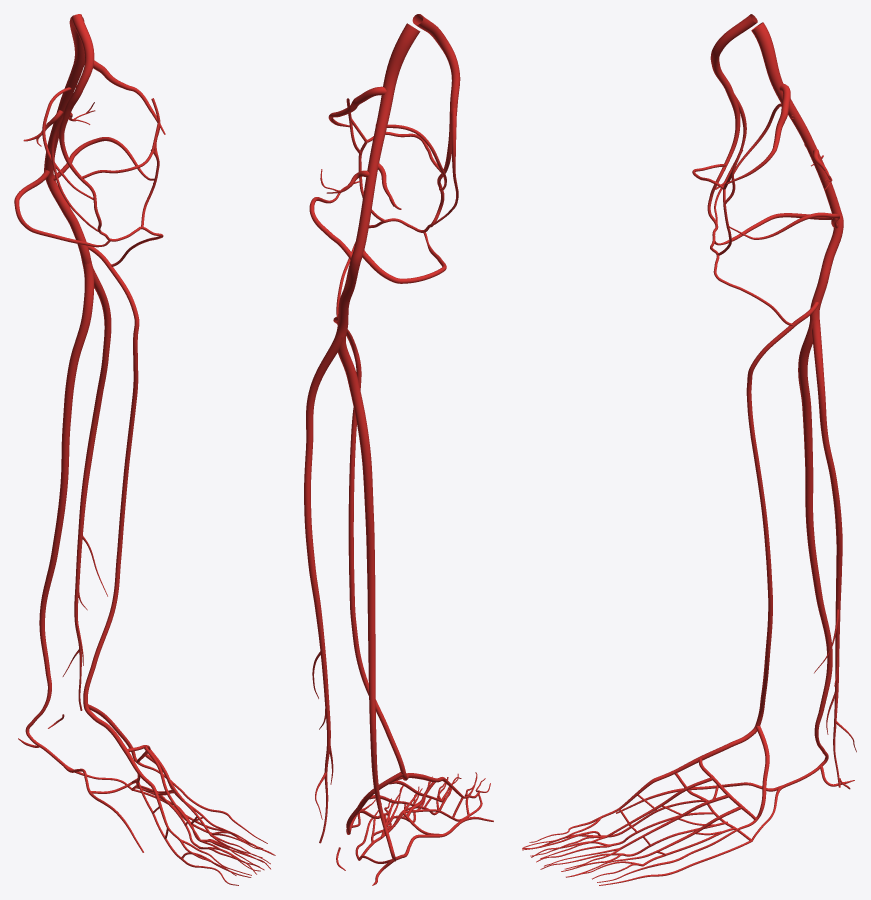
Rendered from circulatorio-popliteal-artery-l.glb.
3 views of the same model, side by side, from view 1: azimuth 30°, elevation 25°; view 2: azimuth 150°, elevation 25°; view 3: azimuth 270°, elevation 25° (orthographic). The views are drawn at different scales.
Visible parts, largest first — view 1: Posterior tibial artery.l, Fibular artery.l, Anterior tibial artery.l, Superior medial genicular artery.l, Popliteal artery.l, Patellar anastomosis.l, Dorsal digital arteries of foot.l, Proper plantar digital arteries.l, Dorsal metatarsal arteries.l, Inferior medial genicular artery.l, Inferior lateral genicular artery.l; view 2: Posterior tibial artery.l, Popliteal artery.l, Fibular artery.l, Anterior tibial artery.l, Superior medial genicular artery.l, Patellar anastomosis.l, Inferior medial genicular artery.l, Proper plantar digital arteries.l, Superior lateral genicular artery.l, Inferior lateral genicular artery.l, Dorsal metatarsal arteries.l, Middle genicular artery.l (+2 smaller); view 3: Posterior tibial artery.l, Popliteal artery.l, Fibular artery.l, Anterior tibial artery.l, Superior medial genicular artery.l, Proper plantar digital arteries.l, Dorsal digital arteries of foot.l, Patellar anastomosis.l, Dorsal metatarsal arteries.l, Plantar metatarsal arteries.l, Superior lateral genicular artery.l.
Part boxes in pixels (bbox=[...]): Posterior tibial artery.l: bbox=[25, 261, 94, 764]; Fibular artery.l: bbox=[62, 261, 111, 710]; Anterior tibial artery.l: bbox=[83, 246, 139, 706]; Superior medial genicular artery.l: bbox=[42, 14, 98, 231]; Popliteal artery.l: bbox=[44, 15, 91, 264]; Patellar anastomosis.l: bbox=[80, 98, 163, 266]; Dorsal digital arteries of foot.l: bbox=[137, 762, 273, 875]; Proper plantar digital arteries.l: bbox=[133, 789, 275, 885]; Dorsal metatarsal arteries.l: bbox=[144, 746, 211, 840]; Inferior medial genicular artery.l: bbox=[14, 169, 100, 247]; Inferior lateral genicular artery.l: bbox=[53, 137, 154, 183]; Posterior tibial artery.l: bbox=[338, 336, 402, 861]; Popliteal artery.l: bbox=[336, 23, 420, 336]; Fibular artery.l: bbox=[304, 334, 344, 843]; Anterior tibial artery.l: bbox=[333, 316, 405, 774]; Superior medial genicular artery.l: bbox=[375, 14, 460, 225]; Patellar anastomosis.l: bbox=[336, 98, 444, 316]; Inferior medial genicular artery.l: bbox=[362, 242, 446, 283]; Proper plantar digital arteries.l: bbox=[355, 777, 490, 860]; Superior lateral genicular artery.l: bbox=[328, 86, 386, 127]; Inferior lateral genicular artery.l: bbox=[309, 180, 362, 259]; Dorsal metatarsal arteries.l: bbox=[358, 777, 470, 818]; Middle genicular artery.l: bbox=[320, 163, 401, 209]; Posterior tibial artery.l: bbox=[782, 319, 832, 787]; Popliteal artery.l: bbox=[751, 22, 843, 320]; Fibular artery.l: bbox=[812, 319, 856, 787]; Anterior tibial artery.l: bbox=[746, 302, 818, 725]; Superior medial genicular artery.l: bbox=[710, 14, 794, 222]; Proper plantar digital arteries.l: bbox=[522, 831, 752, 885]; Dorsal digital arteries of foot.l: bbox=[522, 816, 757, 882]; Patellar anastomosis.l: bbox=[692, 149, 792, 325]; Dorsal metatarsal arteries.l: bbox=[601, 777, 741, 851]; Plantar metatarsal arteries.l: bbox=[632, 799, 735, 855]; Superior lateral genicular artery.l: bbox=[726, 83, 790, 184].
Size of the model in its own units: 0.1101 by 0.5617 by 0.2086.
